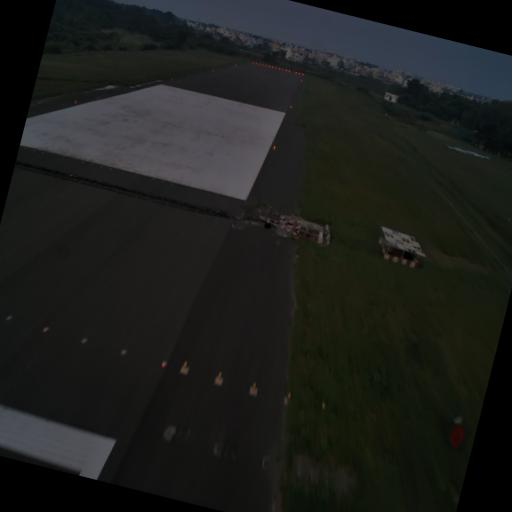off: (118, 344, 130, 361), (3, 312, 16, 324), (78, 335, 88, 350)
on: (177, 358, 192, 382), (212, 370, 226, 390), (248, 378, 261, 397), (158, 354, 168, 374), (39, 322, 51, 338), (282, 392, 294, 406)
